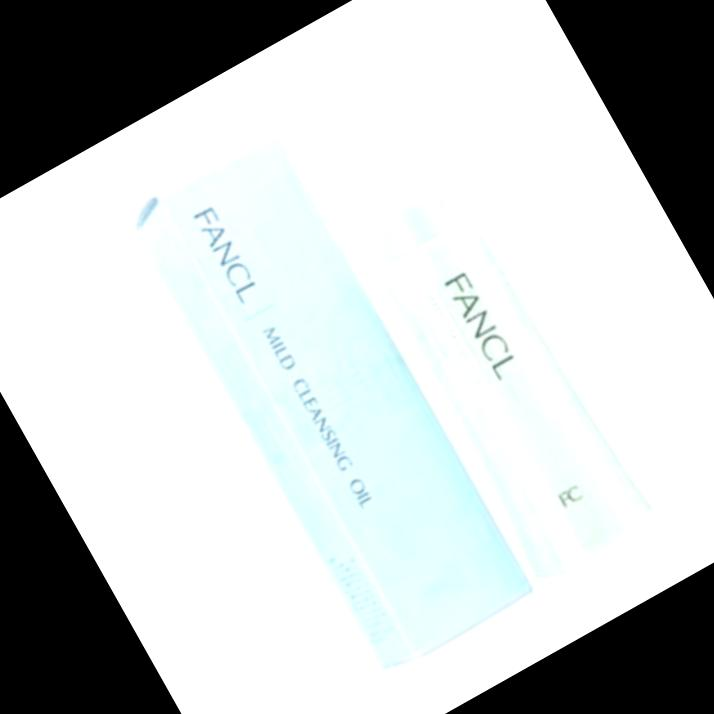cosmetic: (292, 71, 667, 579)
